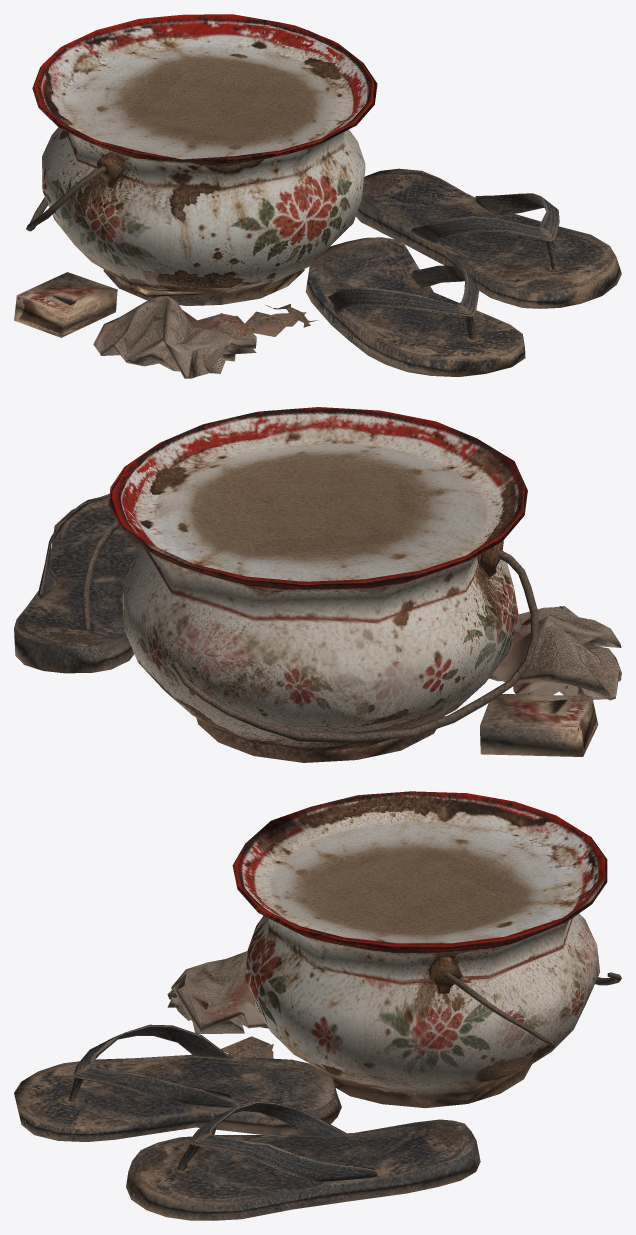
Rendered from Meshy_AI_Forgotten_Washday_20261028_texture.fbx.
The picture shows the model from 3 angles, top to bottom: view 1: azimuth 30°, elevation 25°; view 2: azimuth 150°, elevation 25°; view 3: azimuth 270°, elevation 25°; orthographic projection. The views are drawn at different scales.
Visible parts, largest first — view 1: Mesh_0; view 2: Mesh_0; view 3: Mesh_0.
Boxes of the visible parts, box(x1,y1,x2,y2) form: Mesh_0: box(14, 14, 621, 378); Mesh_0: box(14, 407, 621, 762); Mesh_0: box(14, 791, 621, 1220).
Bounding box in the file's own units: 95.75 × 32.32 × 91.16.
1 material, 1 textured.
